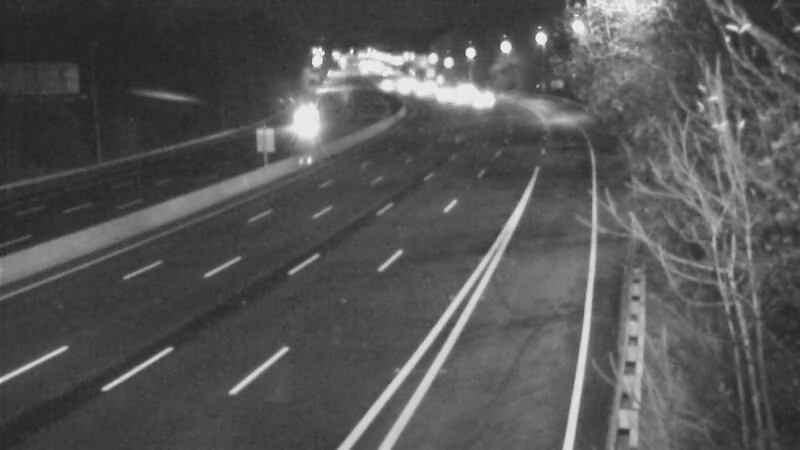vehicle: (417, 69, 467, 119), (458, 74, 508, 124), (278, 101, 328, 151)
